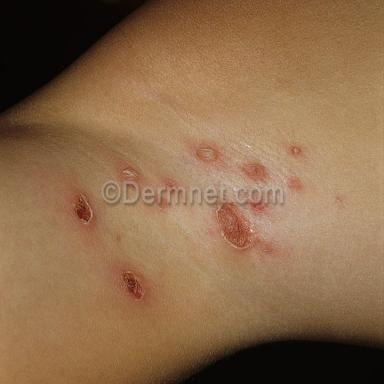Impetigo: (216, 204, 271, 252), (121, 271, 144, 300), (74, 193, 93, 224), (242, 162, 268, 181), (197, 148, 218, 160), (249, 203, 267, 217), (121, 168, 138, 180), (288, 178, 302, 191), (290, 146, 301, 156)
